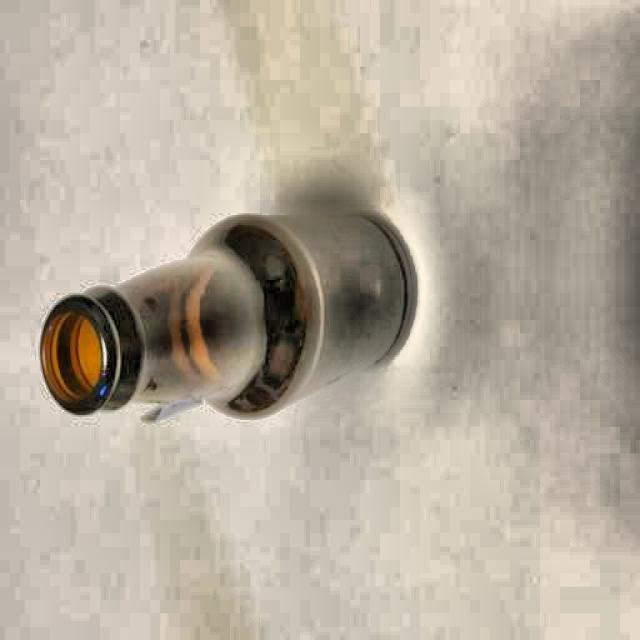glass: (32, 208, 421, 426)
